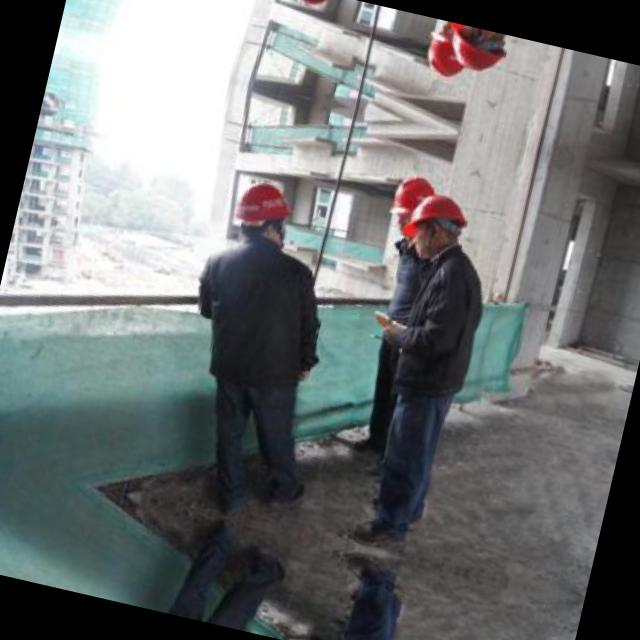helmet: (227, 173, 300, 251), (397, 188, 470, 260), (382, 166, 444, 242), (418, 17, 480, 87), (440, 22, 510, 76), (280, 0, 344, 15)
